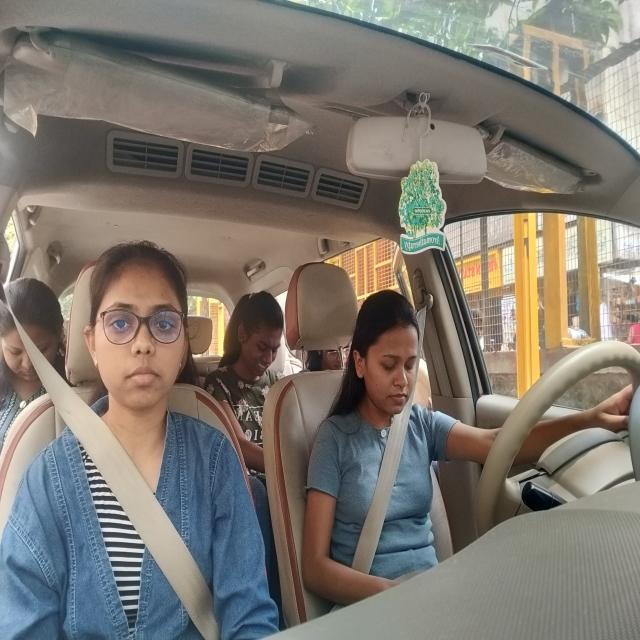drowsy: (344, 296, 424, 416)
person: (82, 248, 194, 410), (0, 269, 68, 392), (224, 284, 280, 382)
